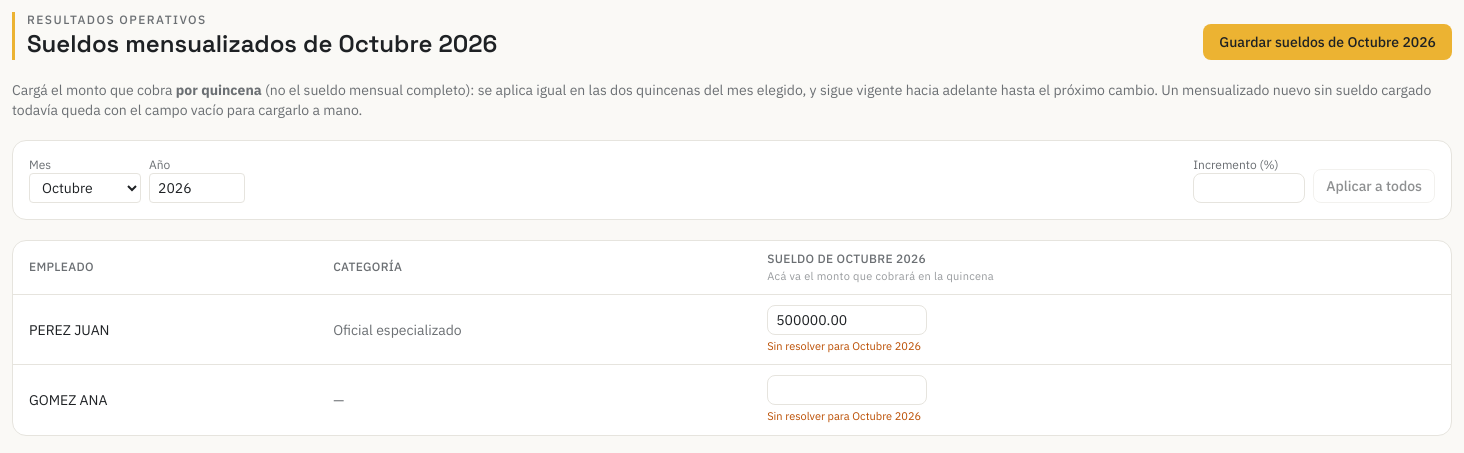
Scenario: SueldosMensualizadosTab › "Aplicar a todos" recalcula solo a quienes tienen sueldo vigente, sin guardar todavía
Type "10" into the number field named "Porcentaje de incremento" at coordinates (1249, 188), box [1193, 173, 1305, 203]
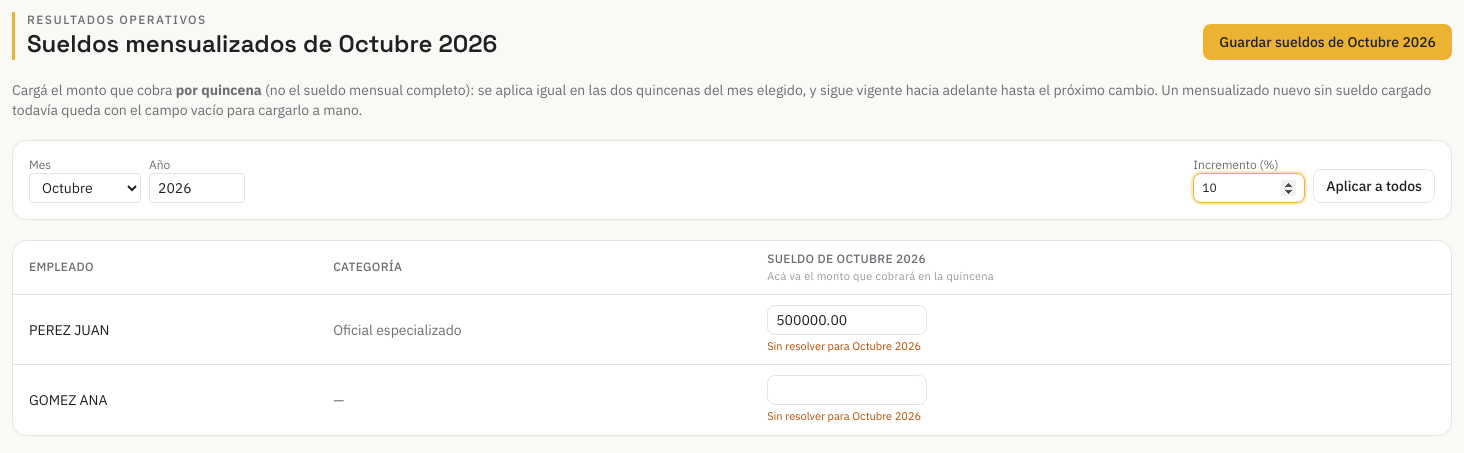
Click the button "Aplicar a todos" at coordinates (1374, 186), box [1313, 169, 1435, 203]
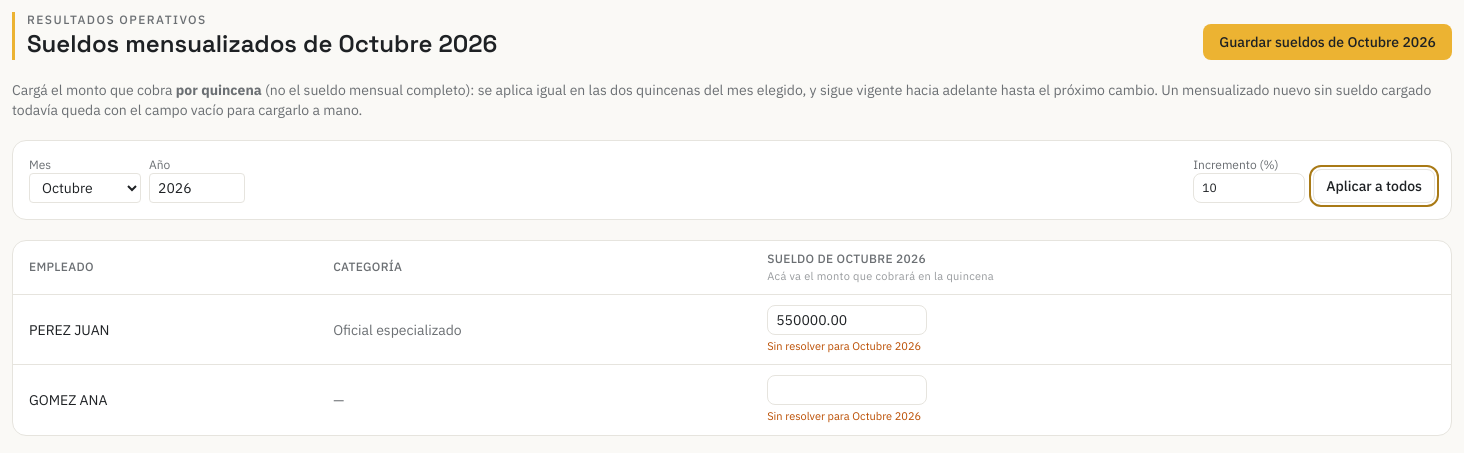
Expected: the number field named "Sueldo de GOMEZ ANA" is not empty, [767, 375, 927, 405]
Expected: the number field named "Sueldo de PEREZ JUAN" holds "550000", [767, 305, 927, 335]
